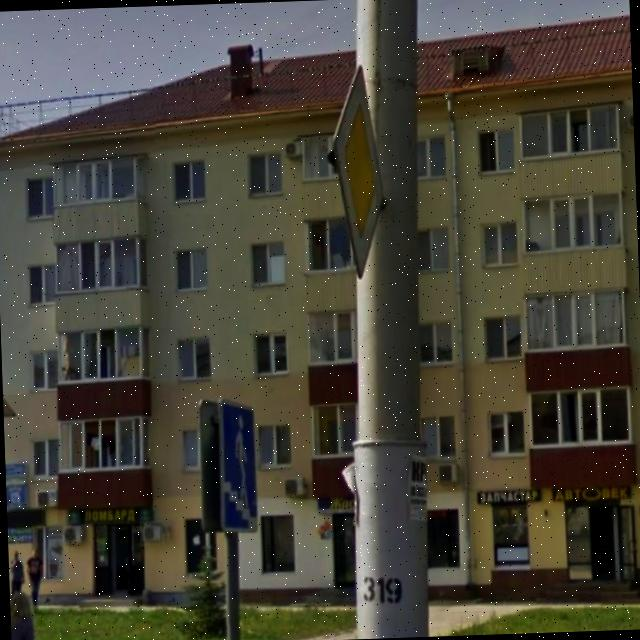Droga z pierwszenstwem: (327, 65, 388, 281)
